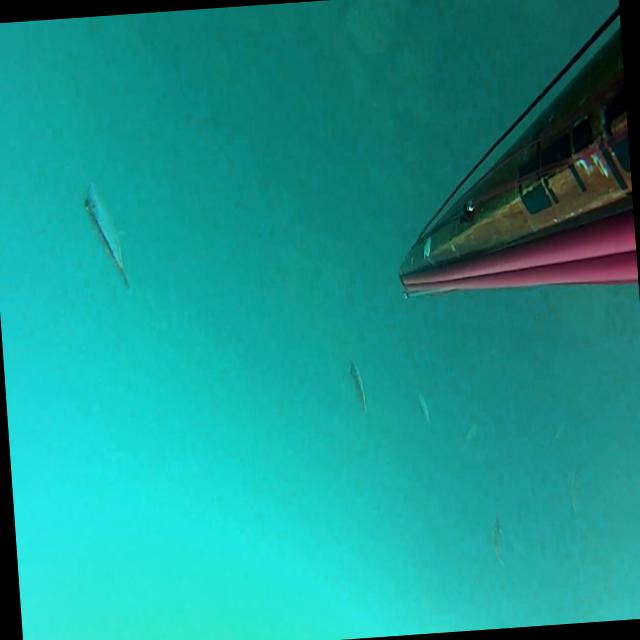Balon Baligi: (82, 178, 130, 293), (348, 360, 367, 414), (568, 463, 584, 514), (490, 515, 503, 566), (417, 390, 429, 424), (464, 422, 476, 441)
